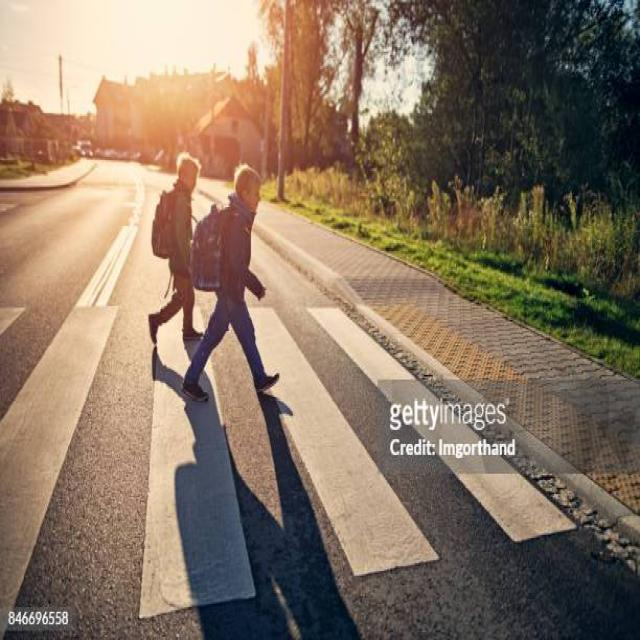Pedestrian crosswalk: (0, 302, 554, 594)
Person: (190, 159, 273, 405), (149, 148, 202, 347)
